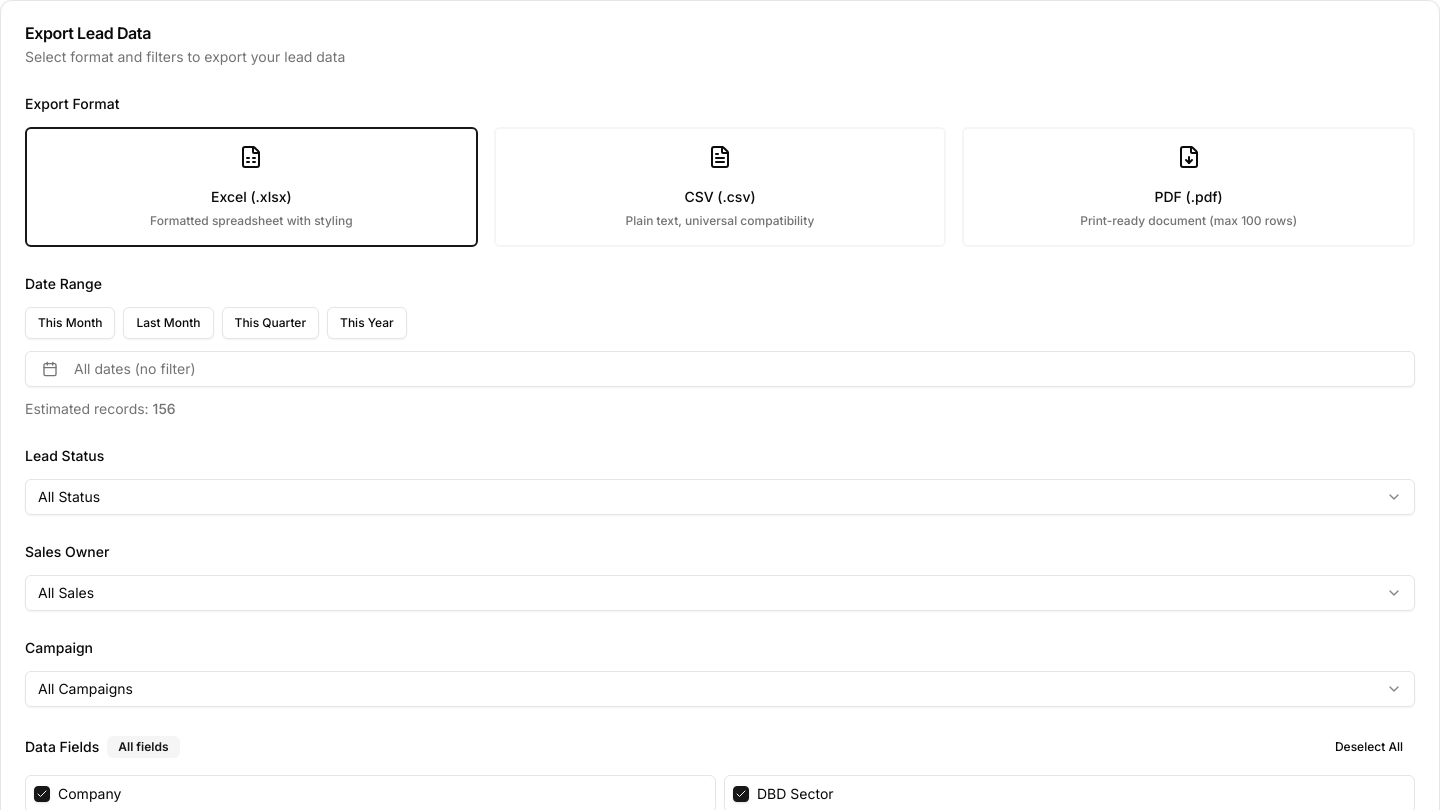
Scenario: ExportForm - Date Range Integration (Story 6.4) › AC#1: Quick Date Presets › clicking same active preset clears the date range (toggle)
Note: Click to activate
What coordinates should you click on to do the following:
click the button with test id "preset-thisMonth"
I would click on:
 (70, 323)
Its box is left=25, top=307, right=116, bottom=339.
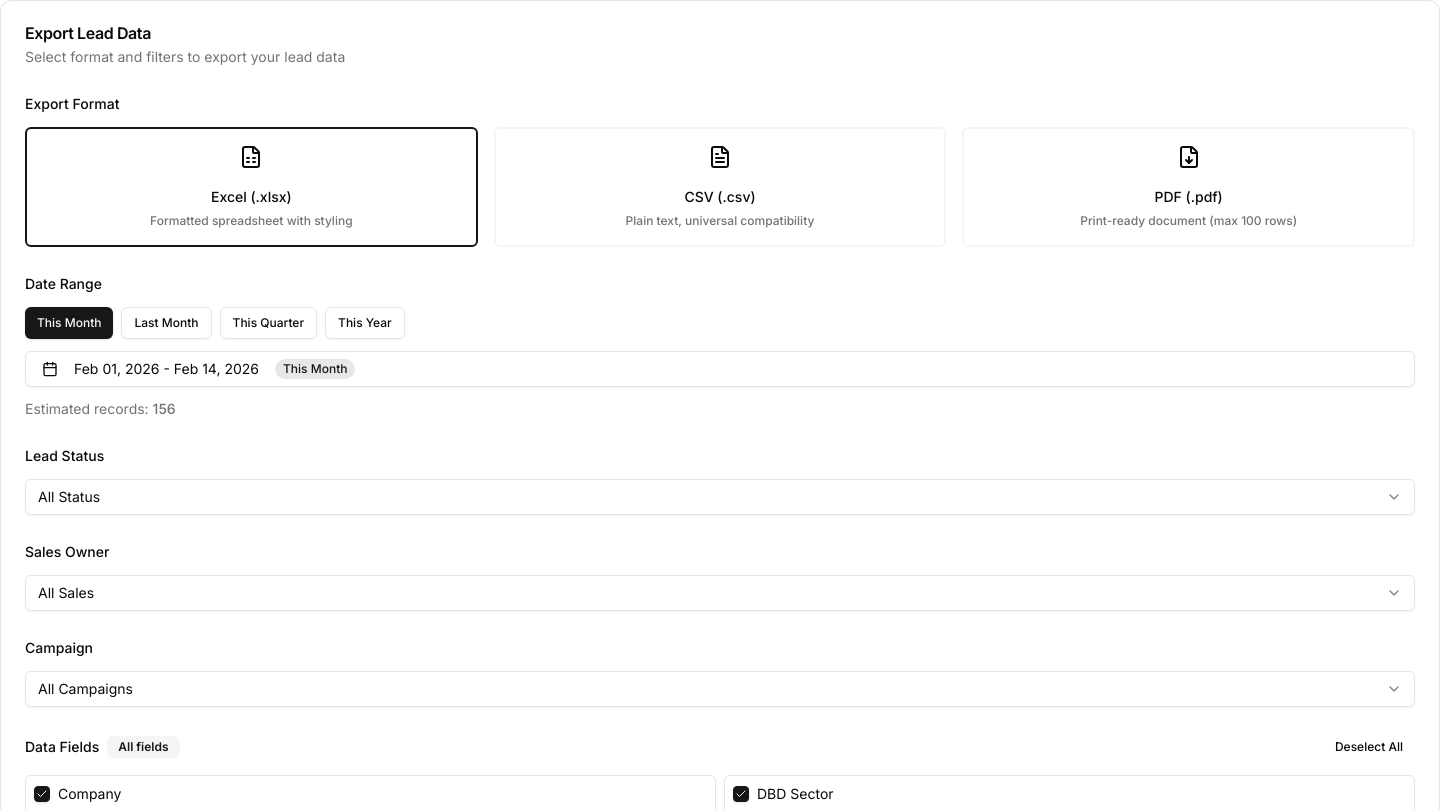
Check: the button with test id "date-range-trigger" no longer shows "All dates (no filter)", box left=25, top=351, right=1415, bottom=387
Note: Click again to deactivate (toggle)
What coordinates should you click on to do the following:
click the button with test id "preset-thisMonth"
I would click on:
 (69, 323)
Its box is left=25, top=307, right=114, bottom=339.
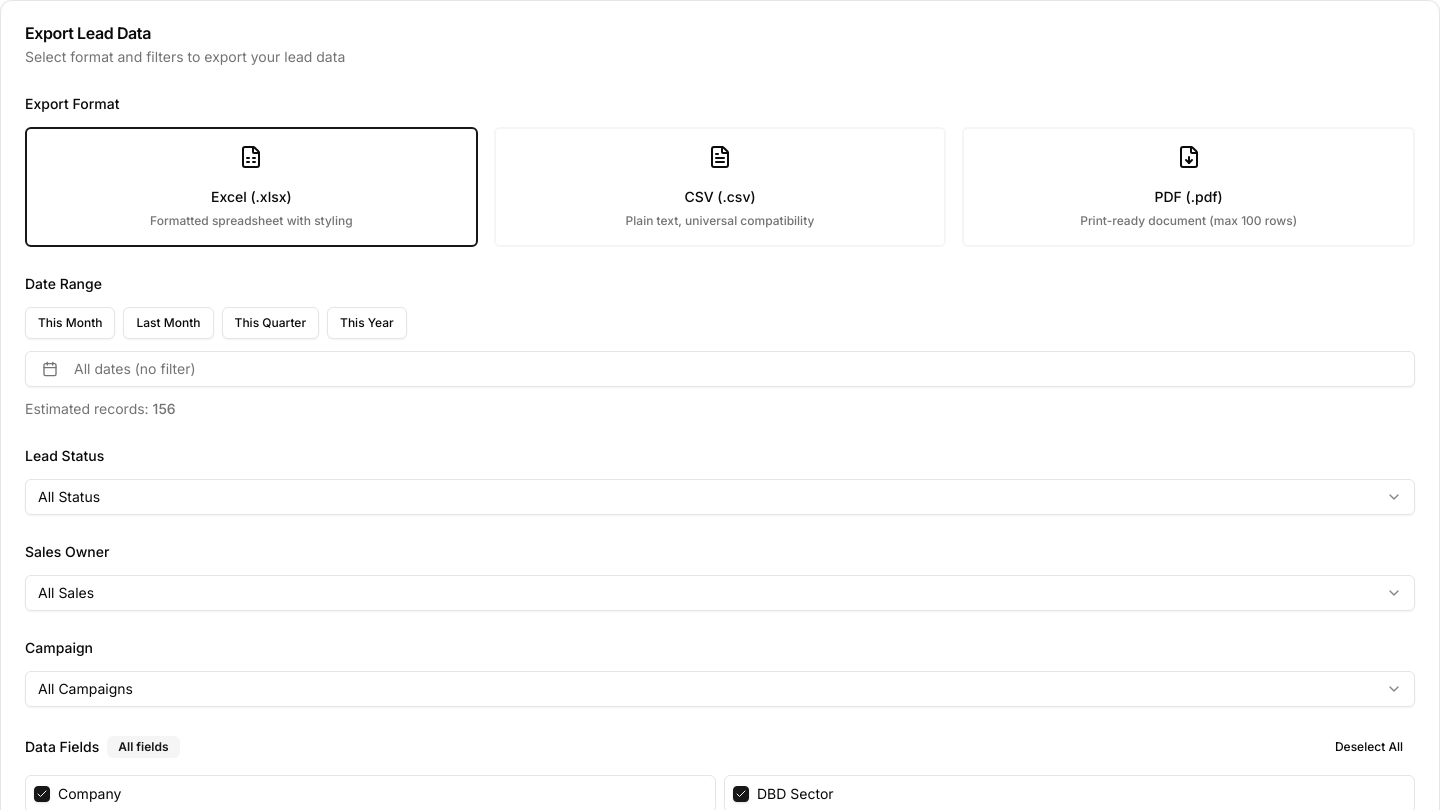
Check: the button with test id "date-range-trigger" reads "All dates (no filter)", box left=25, top=351, right=1415, bottom=387
